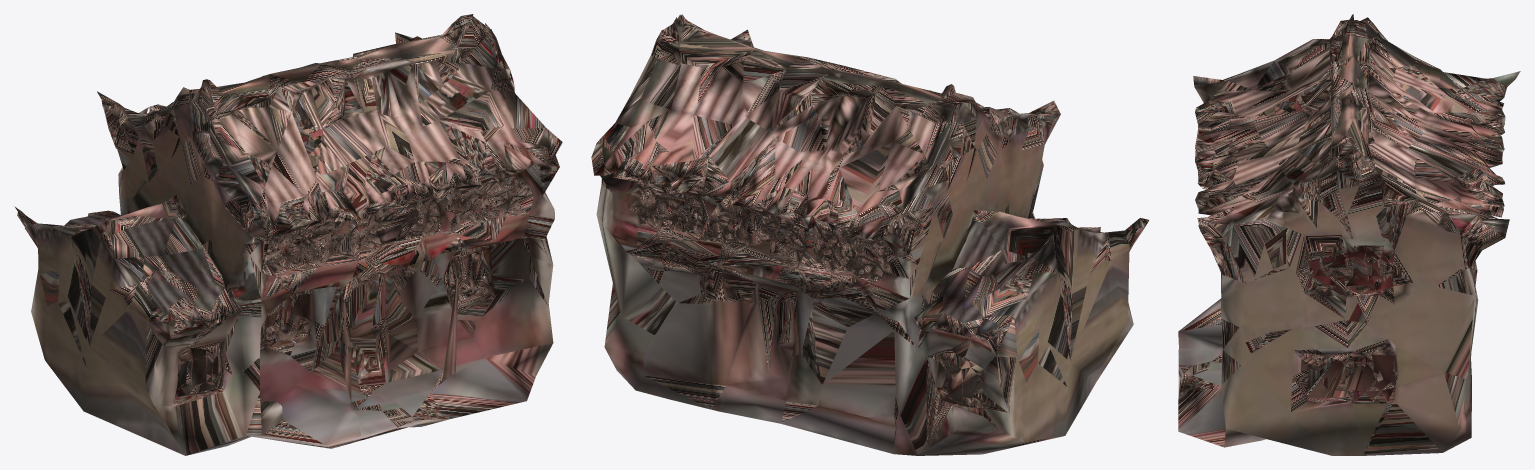
File: bq_inn.lod1.glb
3 renders of one model, left to right at view 1: azimuth 30°, elevation 25°; view 2: azimuth 150°, elevation 25°; view 3: azimuth 270°, elevation 25°, orthographic. The views are drawn at different scales.
Size of the model in its own units: 1.9 by 1.41 by 1.42.
Materials: 1 (1 with a texture image).
